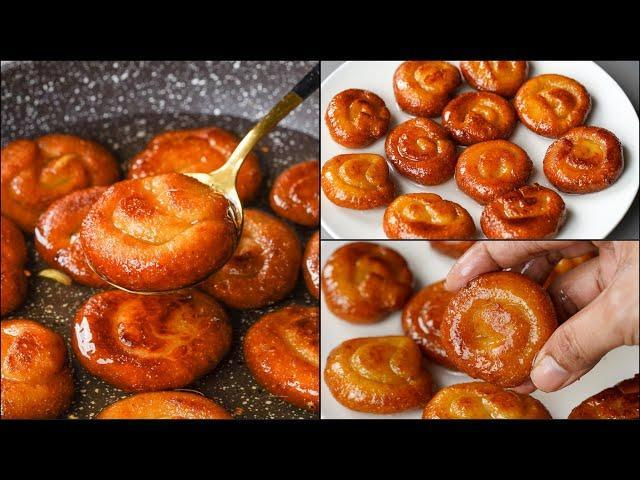jalebi: (325, 71, 630, 415), (8, 112, 309, 409)
